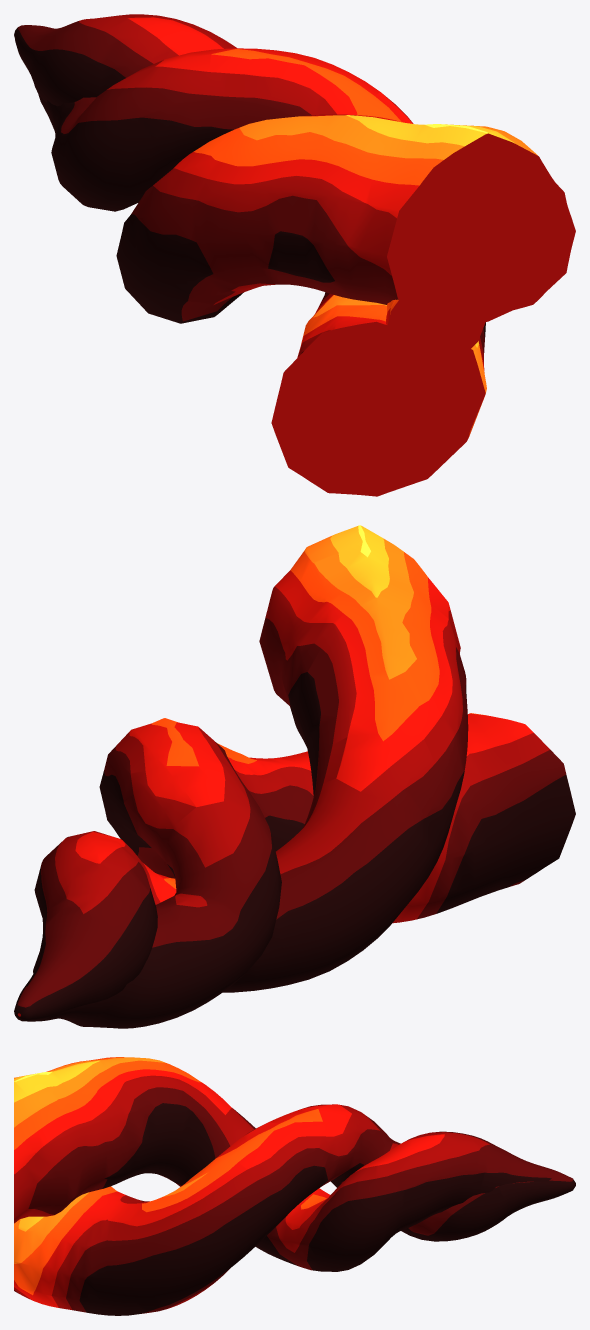
File: drip_top.glb
The picture shows the model from 3 angles, top to bottom: view 1: azimuth 30°, elevation 25°; view 2: azimuth 150°, elevation 25°; view 3: azimuth 270°, elevation 25°; orthographic projection. The views are drawn at different scales.
Visible parts, largest first — view 1: strand0.001, strand1.001, core.001; view 2: strand0.001, strand1.001; view 3: strand0.001, strand1.001.
Part boxes in pixels (<box>): strand0.001: <box>14,14,575,328</box>; strand1.001: <box>38,48,486,496</box>; core.001: <box>384,266,488,376</box>; strand0.001: <box>17,525,468,1020</box>; strand1.001: <box>14,713,575,1028</box>; strand0.001: <box>14,1057,575,1271</box>; strand1.001: <box>14,1104,575,1315</box>.
Bounding box in the file's own units: 12.76 × 13.38 × 28.
